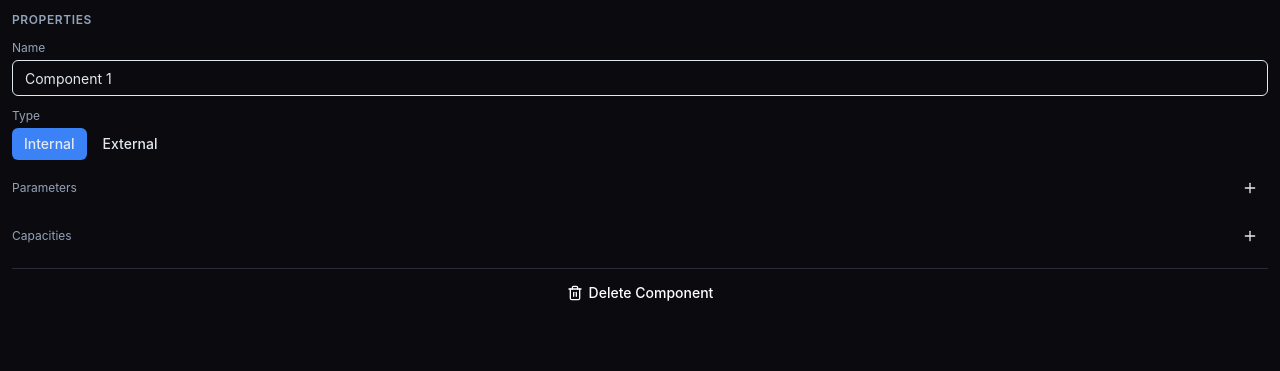
PropertyEditor › shows error for parameter names with spaces
The width and height of the screenshot is (1280, 371).
Step 1. Click the button with test id "add-parameter" → click(1250, 188), box left=1232, top=172, right=1268, bottom=204
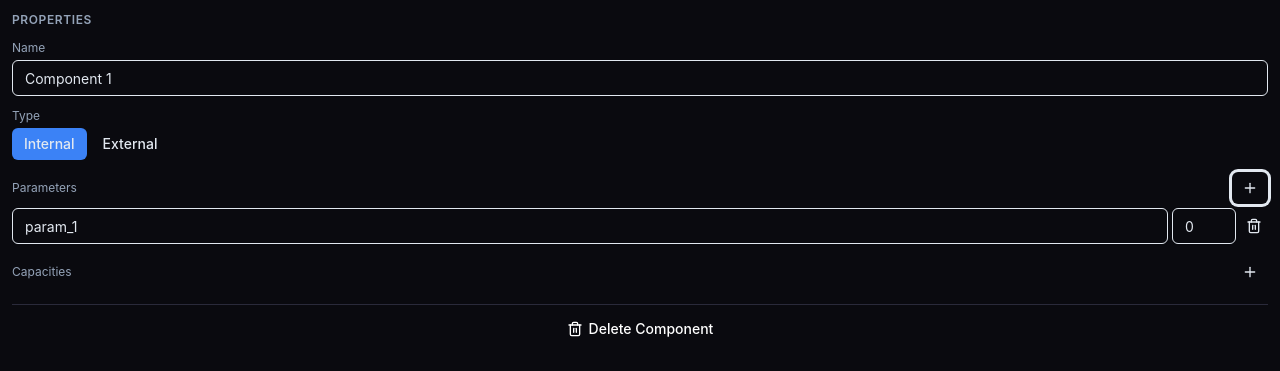
Step 2. Replace the text in the field with placeholder "name" below "Parameters" with "my param" → (590, 226), box left=12, top=208, right=1168, bottom=244
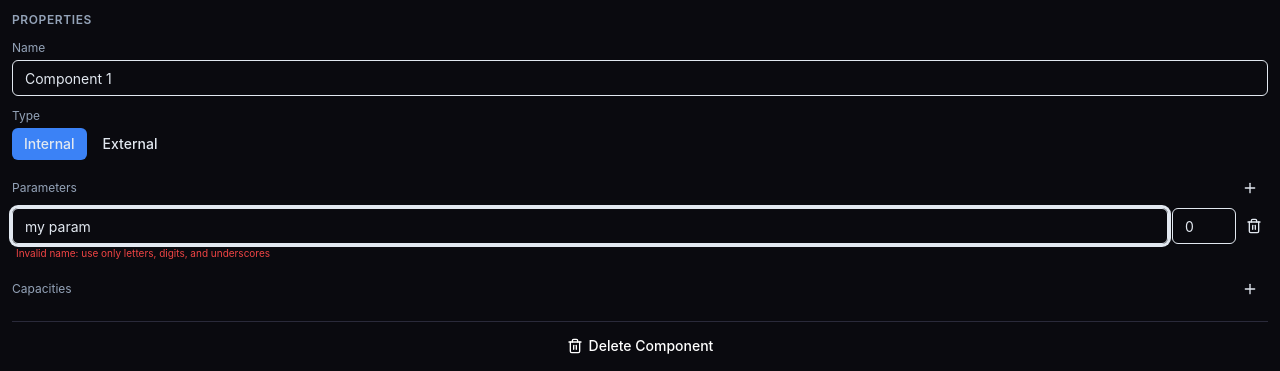
expect the text with test id "param-error" shows "Invalid": met, box left=16, top=247, right=270, bottom=259
